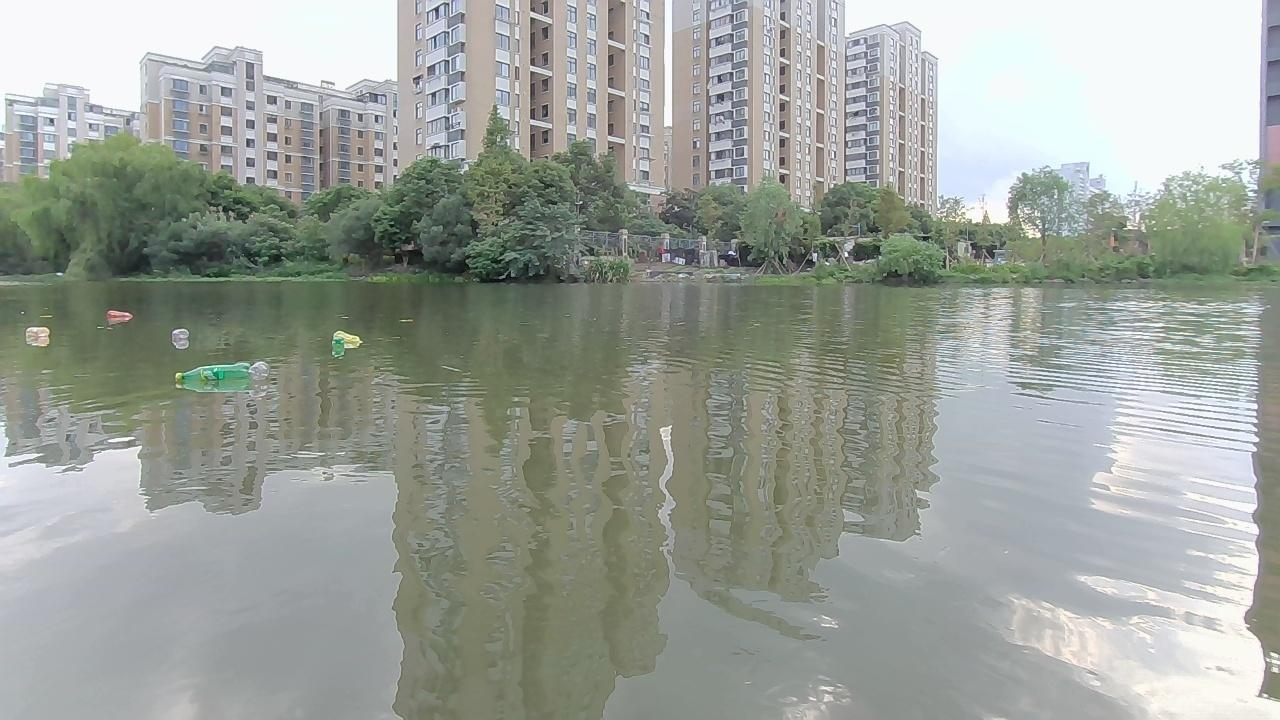bottle: (171, 364, 254, 386), (247, 361, 274, 390), (332, 328, 363, 350), (103, 307, 136, 322), (22, 325, 51, 342), (326, 336, 348, 355), (171, 324, 191, 341)
